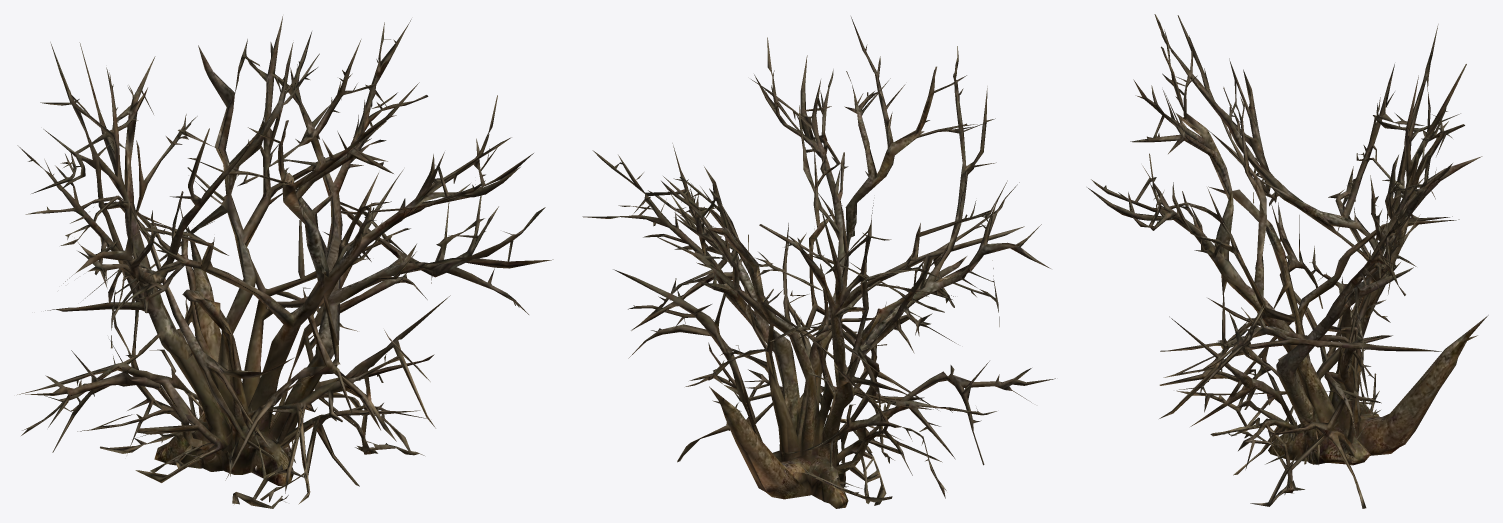
Rendered from thornbush.glb.
3 views of the same model, side by side, from view 1: azimuth 30°, elevation 25°; view 2: azimuth 150°, elevation 25°; view 3: azimuth 270°, elevation 25° (orthographic). The views are drawn at different scales.
Parts seen in each view (by area): view 1: thornbush; view 2: thornbush; view 3: thornbush.
Boxes of the visible parts, x1,y1,x2,y2 form: thornbush: [17, 16, 553, 508]; thornbush: [582, 17, 1055, 508]; thornbush: [1087, 14, 1488, 508].
Bounding box in the file's own units: 0.9804 × 0.8427 × 0.7637.
1 material, 1 textured.
